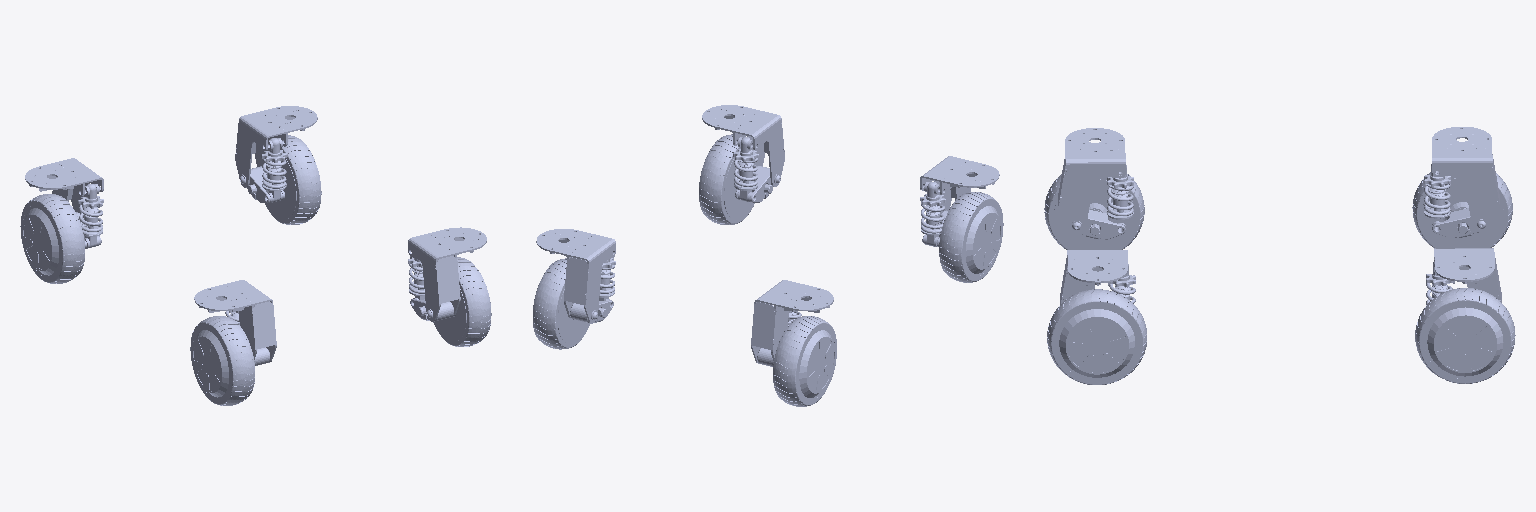
robot.urdf — robot assy.SLDASM:
<?xml version="1.0" encoding="utf-8"?>
<!-- This URDF was automatically created by SolidWorks to URDF Exporter! Originally created by [author] ([email redacted]) 
     Commit Version: 1.6.0-4-g7f85cfe  Build Version: 1.6.7995.38578
     For more information, please see http://wiki.ros.org/sw_urdf_exporter -->
<robot
  name="robot assy.SLDASM">
  <link
    name="basefootprint_link">
    <inertial>
      <origin
        xyz="0 1.11022302462516E-16 -0.0165"
        rpy="0 0 0" />
      <mass
        value="40.12833" />
      <inertia
        ixx="2.41961604813898"
        ixy="0.00979349757253783"
        ixz="-3.46348297131225E-19"
        iyy="1.29747784781603"
        iyz="2.94246210047988E-16"
        izz="3.70981060406001" />
    </inertial>
    <visual>
      <origin
        xyz="0 0 0"
        rpy="0 0 0" />
      <geometry>
        <mesh
          filename="package://robot assy.SLDASM/meshes/basefootprint_link.STL" />
      </geometry>
      <material
        name="">
        <color
          rgba="0.988235294117647 0.984313725490196 1 1" />
      </material>
    </visual>
    <collision>
      <origin
        xyz="0 0 0"
        rpy="0 0 0" />
      <geometry>
        <mesh
          filename="package://robot assy.SLDASM/meshes/basefootprint_link.STL" />
      </geometry>
    </collision>
  </link>
  <link
    name="base_link">
    <inertial>
      <origin
        xyz="-0.00164219166090096 -0.0361894519725367 0.582086232959336"
        rpy="0 0 0" />
      <mass
        value="38.5841907210089" />
      <inertia
        ixx="1.94197264059665"
        ixy="0.00713596425149988"
        ixz="-0.000642438598698668"
        iyy="1.12447543859211"
        iyz="0.0721839356855261"
        izz="2.71974540999521" />
    </inertial>
    <visual>
      <origin
        xyz="0 0 0"
        rpy="0 0 0" />
      <geometry>
        <mesh
          filename="package://robot assy.SLDASM/meshes/base_link.STL" />
      </geometry>
      <material
        name="">
        <color
          rgba="0.792156862745098 0.819607843137255 0.933333333333333 1" />
      </material>
    </visual>
    <collision>
      <origin
        xyz="0 0 0"
        rpy="0 0 0" />
      <geometry>
        <mesh
          filename="package://robot assy.SLDASM/meshes/base_link.STL" />
      </geometry>
    </collision>
  </link>
  <joint
    name="base_joint"
    type="fixed">
    <origin
      xyz="0.00089997 0 0.089894"
      rpy="0 0 0" />
    <parent
      link="basefootprint_link" />
    <child
      link="base_link" />
    <axis
      xyz="0 0 0" />
  </joint>
  <link
    name="FL_steering_link">
    <inertial>
      <origin
        xyz="-0.0475735313962518 0.00186107687732573 -0.0677613689716037"
        rpy="0 0 0" />
      <mass
        value="0.215025529188034" />
      <inertia
        ixx="0.000198183542175169"
        ixy="-1.3349793725885E-05"
        ixz="-3.32629600062834E-05"
        iyy="0.000199595091165542"
        iyz="-2.84687052890827E-05"
        izz="0.0001695430097707" />
    </inertial>
    <visual>
      <origin
        xyz="0 0 0"
        rpy="0 0 0" />
      <geometry>
        <mesh
          filename="package://robot assy.SLDASM/meshes/FL_steering_link.STL" />
      </geometry>
      <material
        name="">
        <color
          rgba="0.792156862745098 0.819607843137255 0.933333333333333 1" />
      </material>
    </visual>
    <collision>
      <origin
        xyz="0 0 0"
        rpy="0 0 0" />
      <geometry>
        <mesh
          filename="package://robot assy.SLDASM/meshes/FL_steering_link.STL" />
      </geometry>
    </collision>
  </link>
  <joint
    name="FL_steering_joint"
    type="continuous">
    <origin
      xyz="0.241621591099171 -0.287902443050945 0.1095"
      rpy="0 0 0" />
    <parent
      link="base_link" />
    <child
      link="FL_steering_link" />
    <axis
      xyz="0 0 1" />
  </joint>
  <link
    name="FL_wheel">
    <inertial>
      <origin
        xyz="-6.33164459307167E-07 7.24319215807123E-06 0.0298545011765312"
        rpy="0 0 0" />
      <mass
        value="0.958024018560993" />
      <inertia
        ixx="0.00158537287142923"
        ixy="-2.9584644178286E-09"
        ixz="-3.34102631120875E-08"
        iyy="0.00158540670170445"
        iyz="3.81832211648325E-07"
        izz="0.00270273979063561" />
    </inertial>
    <visual>
      <origin
        xyz="0 0 0"
        rpy="0 0 0" />
      <geometry>
        <mesh
          filename="package://robot assy.SLDASM/meshes/FL_wheel.STL" />
      </geometry>
      <material
        name="">
        <color
          rgba="0.792156862745098 0.819607843137255 0.933333333333333 1" />
      </material>
    </visual>
    <collision>
      <origin
        xyz="0 0 0"
        rpy="0 0 0" />
      <geometry>
        <mesh
          filename="package://robot assy.SLDASM/meshes/FL_wheel.STL" />
      </geometry>
    </collision>
  </link>
  <joint
    name="FL_wheel_joint"
    type="continuous">
    <origin
      xyz="-0.0305911790614908 -0.00114332801035 -0.120198042415907"
      rpy="-1.5707963267949 0 -1.56206968053491" />
    <parent
      link="FL_steering_link" />
    <child
      link="FL_wheel" />
    <axis
      xyz="0 0 1" />
  </joint>
  <link
    name="FR_steering_link">
    <inertial>
      <origin
        xyz="0.0475332676644014 0.00275311602446848 -0.0677612853470633"
        rpy="0 0 0" />
      <mass
        value="0.215025528947219" />
      <inertia
        ixx="0.000197718490479999"
        ixy="1.32930141918077E-05"
        ixz="3.37551609187015E-05"
        iyy="0.000200060279861215"
        iyz="-2.79346804830956E-05"
        izz="0.000169542872761945" />
    </inertial>
    <visual>
      <origin
        xyz="0 0 0"
        rpy="0 0 0" />
      <geometry>
        <mesh
          filename="package://robot assy.SLDASM/meshes/FR_steering_link.STL" />
      </geometry>
      <material
        name="">
        <color
          rgba="0.792156862745098 0.819607843137255 0.933333333333333 1" />
      </material>
    </visual>
    <collision>
      <origin
        xyz="0 0 0"
        rpy="0 0 0" />
      <geometry>
        <mesh
          filename="package://robot assy.SLDASM/meshes/FR_steering_link.STL" />
      </geometry>
    </collision>
  </link>
  <joint
    name="FR_steering_joint"
    type="continuous">
    <origin
      xyz="-0.238360131971625 -0.292091180090165 0.1095"
      rpy="0 0 0" />
    <parent
      link="base_link" />
    <child
      link="FR_steering_link" />
    <axis
      xyz="0 0 1" />
  </joint>
  <link
    name="FR_wheel">
    <inertial>
      <origin
        xyz="-7.25632208209426E-06 -5.02980211800064E-07 -0.0298544958122798"
        rpy="0 0 0" />
      <mass
        value="0.958023968371171" />
      <inertia
        ixx="0.0015854067935003"
        ixy="2.35162659253672E-09"
        ixz="3.82180143814828E-07"
        iyy="0.00158537266869454"
        iyz="2.63310496845712E-08"
        izz="0.00270273963326959" />
    </inertial>
    <visual>
      <origin
        xyz="0 0 0"
        rpy="0 0 0" />
      <geometry>
        <mesh
          filename="package://robot assy.SLDASM/meshes/FR_wheel.STL" />
      </geometry>
      <material
        name="">
        <color
          rgba="0.792156862745098 0.819607843137255 0.933333333333333 1" />
      </material>
    </visual>
    <collision>
      <origin
        xyz="0 0 0"
        rpy="0 0 0" />
      <geometry>
        <mesh
          filename="package://robot assy.SLDASM/meshes/FR_wheel.STL" />
      </geometry>
    </collision>
  </link>
  <joint
    name="FR_wheel_joint"
    type="continuous">
    <origin
      xyz="0.0306064737018755 -0.000609264185578828 -0.120198042415909"
      rpy="-1.5707963267949 0 -1.56206968053492" />
    <parent
      link="FR_steering_link" />
    <child
      link="FR_wheel" />
    <axis
      xyz="0 0 -1" />
  </joint>
  <link
    name="RL_steering_link">
    <inertial>
      <origin
        xyz="-0.0475332676644018 -0.0027531160244687 -0.0677612853470547"
        rpy="0 0 0" />
      <mass
        value="0.215025528947221" />
      <inertia
        ixx="0.000197718490480003"
        ixy="1.32930141918064E-05"
        ixz="-3.37551609187014E-05"
        iyy="0.000200060279861221"
        iyz="2.79346804830953E-05"
        izz="0.000169542872761945" />
    </inertial>
    <visual>
      <origin
        xyz="0 0 0"
        rpy="0 0 0" />
      <geometry>
        <mesh
          filename="package://robot assy.SLDASM/meshes/RL_steering_link.STL" />
      </geometry>
      <material
        name="">
        <color
          rgba="0.792156862745098 0.819607843137255 0.933333333333333 1" />
      </material>
    </visual>
    <collision>
      <origin
        xyz="0 0 0"
        rpy="0 0 0" />
      <geometry>
        <mesh
          filename="package://robot assy.SLDASM/meshes/RL_steering_link.STL" />
      </geometry>
    </collision>
  </link>
  <joint
    name="RL_steering_joint"
    type="continuous">
    <origin
      xyz="0.236560200510107 0.292075472326287 0.109500000000001"
      rpy="0 0 0" />
    <parent
      link="base_link" />
    <child
      link="RL_steering_link" />
    <axis
      xyz="0 0 1" />
  </joint>
  <link
    name="RL_wheel">
    <inertial>
      <origin
        xyz="7.27159198632421E-06 -6.51543927837617E-08 0.0298545007582798"
        rpy="0 0 0" />
      <mass
        value="0.95802401302459" />
      <inertia
        ixx="0.00158540700752927"
        ixy="-2.83636381736739E-10"
        ixz="3.8324607122713E-07"
        iyy="0.00158537256099176"
        iyz="-3.41343993328251E-09"
        izz="0.00270273976518547" />
    </inertial>
    <visual>
      <origin
        xyz="0 0 0"
        rpy="0 0 0" />
      <geometry>
        <mesh
          filename="package://robot assy.SLDASM/meshes/RL_wheel.STL" />
      </geometry>
      <material
        name="">
        <color
          rgba="0.792156862745098 0.819607843137255 0.933333333333333 1" />
      </material>
    </visual>
    <collision>
      <origin
        xyz="0 0 0"
        rpy="0 0 0" />
      <geometry>
        <mesh
          filename="package://robot assy.SLDASM/meshes/RL_wheel.STL" />
      </geometry>
    </collision>
  </link>
  <joint
    name="RL_wheel_joint"
    type="continuous">
    <origin
      xyz="-0.0306064737018754 0.000609264185579161 -0.120198042415909"
      rpy="-1.57079632679489 0 -1.56206968053493" />
    <parent
      link="RL_steering_link" />
    <child
      link="RL_wheel" />
    <axis
      xyz="0 0 1" />
  </joint>
  <link
    name="RR_steering_link">
    <inertial>
      <origin
        xyz="0.0475735313962523 -0.00186107687732562 -0.067761368971604"
        rpy="0 0 0" />
      <mass
        value="0.215025529188032" />
      <inertia
        ixx="0.000198183542170154"
        ixy="-1.33497937261377E-05"
        ixz="3.32629600070807E-05"
        iyy="0.000199595091161019"
        iyz="2.84687052871704E-05"
        izz="0.000169543009769997" />
    </inertial>
    <visual>
      <origin
        xyz="0 0 0"
        rpy="0 0 0" />
      <geometry>
        <mesh
          filename="package://robot assy.SLDASM/meshes/RR_steering_link.STL" />
      </geometry>
      <material
        name="">
        <color
          rgba="0.792156862745098 0.819607843137255 0.933333333333333 1" />
      </material>
    </visual>
    <collision>
      <origin
        xyz="0 0 0"
        rpy="0 0 0" />
      <geometry>
        <mesh
          filename="package://robot assy.SLDASM/meshes/RR_steering_link.STL" />
      </geometry>
    </collision>
  </link>
  <joint
    name="RR_steering_joint"
    type="continuous">
    <origin
      xyz="-0.24342152256069 0.287886735287059 0.109500000000002"
      rpy="0 0 0" />
    <parent
      link="base_link" />
    <child
      link="RR_steering_link" />
    <axis
      xyz="0 0 1" />
  </joint>
  <link
    name="RR_wheel">
    <inertial>
      <origin
        xyz="7.20462982484182E-06 9.68505780116202E-07 -0.0298544958076753"
        rpy="0 0 0" />
      <mass
        value="0.958023969041703" />
      <inertia
        ixx="0.00158540634795059"
        ixy="4.53161844102951E-09"
        ixz="-3.79997418333319E-07"
        iyy="0.00158537311547568"
        iyz="-5.12644367348954E-08"
        izz="0.00270273963443473" />
    </inertial>
    <visual>
      <origin
        xyz="0 0 0"
        rpy="0 0 0" />
      <geometry>
        <mesh
          filename="package://robot assy.SLDASM/meshes/RR_wheel.STL" />
      </geometry>
      <material
        name="">
        <color
          rgba="0.792156862745098 0.819607843137255 0.933333333333333 1" />
      </material>
    </visual>
    <collision>
      <origin
        xyz="0 0 0"
        rpy="0 0 0" />
      <geometry>
        <mesh
          filename="package://robot assy.SLDASM/meshes/RR_wheel.STL" />
      </geometry>
    </collision>
  </link>
  <joint
    name="RR_wheel_joint"
    type="continuous">
    <origin
      xyz="0.0305911790614906 0.00114332801034964 -0.12019804241591"
      rpy="-1.5707963267949 0 -1.56206968053492" />
    <parent
      link="RR_steering_link" />
    <child
      link="RR_wheel" />
    <axis
      xyz="0 0 -1" />
  </joint>
</robot>

--- Render facts (derived) ---
3 views of the same robot in one strip: view 1: azimuth 30°, elevation 25°; view 2: azimuth 150°, elevation 25°; view 3: azimuth 270°, elevation 25° (orthographic).
Model robot assy.SLDASM with 10 links and 9 joints (8 continuous, 1 fixed), rooted at basefootprint_link, posed all joints at 0.
Visible links, largest first — view 1: RL_steering_link, FL_steering_link, FR_wheel, RR_wheel, FR_steering_link, RR_steering_link, RL_wheel, FL_wheel; view 2: FL_steering_link, RL_steering_link, FR_wheel, RR_wheel, RR_steering_link, FR_steering_link, FL_wheel, RL_wheel; view 3: RL_wheel, FL_wheel, FR_steering_link, RR_steering_link, FR_wheel, RR_wheel, RL_steering_link, FL_steering_link.
Link boxes in pixels (box(x1,y1,x2,y2)): RL_steering_link: box(235, 106, 317, 202); FL_steering_link: box(408, 227, 486, 321); FR_wheel: box(190, 316, 254, 405); RR_wheel: box(20, 194, 84, 283); FR_steering_link: box(194, 280, 276, 365); RR_steering_link: box(25, 158, 103, 248); RL_wheel: box(248, 135, 321, 224); FL_wheel: box(418, 257, 491, 346); FL_steering_link: box(702, 105, 784, 202); RL_steering_link: box(536, 229, 615, 323); FR_wheel: box(939, 192, 1003, 282); RR_wheel: box(773, 316, 836, 406); RR_steering_link: box(751, 280, 833, 366); FR_steering_link: box(920, 156, 999, 246); FL_wheel: box(699, 134, 772, 224); RL_wheel: box(533, 258, 606, 349); RL_wheel: box(1415, 288, 1515, 383); FL_wheel: box(1047, 289, 1146, 384); FR_steering_link: box(1058, 128, 1133, 239); RR_steering_link: box(1424, 127, 1499, 237); FR_wheel: box(1044, 174, 1144, 249); RR_wheel: box(1412, 172, 1512, 248); RL_steering_link: box(1426, 248, 1501, 304); FL_steering_link: box(1060, 250, 1135, 304).
Size in the robot's own frame: 0.58 by 0.7445 by 0.1996 metres.
Meshes: 10 distinct files referenced, 8 mesh visuals loaded (8 binary STL); not drawn: 2 (reference not matched to a file when rendering).